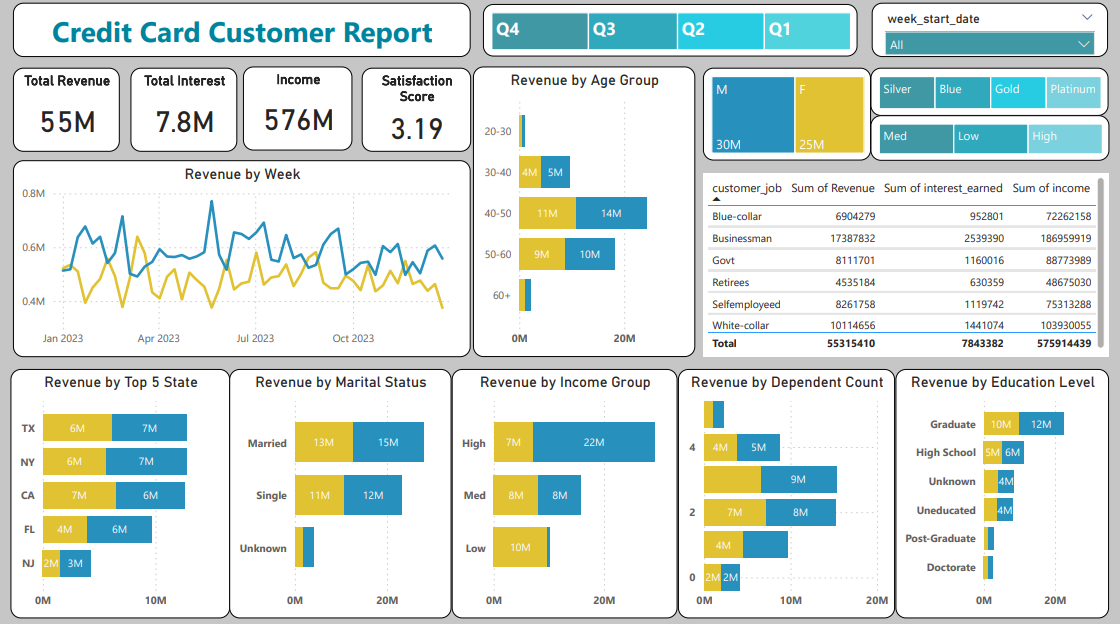

The page's visual inventory and layout, read from the dashboard file:
{"tool":"powerbi","page":{"name":"Page 2","canvas":[1280,720],"ordinal":2},"visuals":[{"type":"textbox","box":[17.8,4.1,522.8,61.7],"z":0},{"type":"barChart","title":"Revenue by Income Group","fields":{"Y":["Sum(public cc_detail.Revenue)"],"Category":["public cust_detail.IncomeGroup"],"Series":["public cust_detail.gender"]},"box":[518.7,422.6,258,285.4],"z":2},{"type":"tableEx","fields":{"Values":["public cust_detail.customer_job","Sum(public cc_detail.Revenue)","Sum(public cc_detail.interest_earned)","Sum(public cust_detail.income)"]},"box":[805.5,199,463.8,209.9],"z":7},{"type":"card","title":"Total Revenue","fields":{"Values":["Sum(public cc_detail.Revenue)"]},"box":[17.8,78.2,122.1,96.1],"z":8},{"type":"card","title":"Income","fields":{"Values":["Sum(public cust_detail.income)"]},"box":[279.9,76.8,124.9,96.1],"z":9},{"type":"card","title":"Total Interest","fields":{"Values":["Sum(public cc_detail.interest_earned)"]},"box":[150.9,78.2,122.1,96.1],"z":10},{"type":"card","title":"Satisfaction Score","fields":{"Values":["Avg(public cust_detail.cust_satisfaction_score)"]},"box":[415.8,78.2,124.9,96.1],"z":11},{"type":"slicer","fields":{"Values":["public cc_detail.week_start_date"]},"box":[999,4.1,270.3,61.7],"z":12},{"type":"treemap","fields":{"Group":["public cc_detail.qtr"],"Values":["Avg(public cc_detail.client_num)"]},"box":[554.4,5.5,428.1,60.4],"z":13},{"type":"treemap","fields":{"Group":["public cc_detail.card_category"],"Values":["Avg(public cc_detail.client_num)"]},"box":[997.6,78.2,271.7,54.9],"z":15},{"type":"treemap","fields":{"Group":["public cust_detail.IncomeGroup"],"Values":["Avg(public cc_detail.client_num)"]},"box":[997.6,133.1,273.1,52.1],"z":16},{"type":"lineChart","title":"Revenue by Week","fields":{"Y":["Sum(public cc_detail.Revenue)"],"Series":["public cust_detail.gender"],"Category":["public cc_detail.week_start_date.Variation.Date Hierarchy.Year","public cc_detail.week_start_date.Variation.Date Hierarchy.Month","public cc_detail.week_start_date.Variation.Date Hierarchy.Day"]},"box":[17.8,183.9,522.8,225],"z":17},{"type":"treemap","fields":{"Group":["public cust_detail.gender"],"Values":["Sum(public cc_detail.Revenue)"]},"box":[805.5,78.2,192.1,105.7],"z":18},{"type":"barChart","title":"Revenue by Age Group","fields":{"Y":["Sum(public cc_detail.Revenue)"],"Category":["public cust_detail.AgeGroup"],"Series":["public cust_detail.gender"]},"box":[543.4,76.8,253.9,332.1],"z":19},{"type":"barChart","title":"Revenue by Dependent Count","fields":{"Y":["Sum(public cc_detail.Revenue)"],"Category":["public cust_detail.dependent_count"],"Series":["public cust_detail.gender"]},"box":[776.7,422.6,248.4,285.4],"z":20},{"type":"barChart","title":"Revenue by Education Level","fields":{"Y":["Sum(public cc_detail.Revenue)"],"Category":["public cust_detail.education_level"],"Series":["public cust_detail.gender"]},"box":[1025,422.6,244.3,285.4],"z":21},{"type":"barChart","title":"Revenue by Top 5 State","fields":{"Y":["Sum(public cc_detail.Revenue)"],"Category":["public cust_detail.state_cd"],"Series":["public cust_detail.gender"]},"box":[13.7,422.6,251.1,285.4],"z":22},{"type":"barChart","title":"Revenue by Marital Status","fields":{"Y":["Sum(public cc_detail.Revenue)"],"Category":["public cust_detail.marital_status"],"Series":["public cust_detail.gender"]},"box":[264.8,422.6,253.9,285.4],"z":23}]}

Visuals, with their boxes in screenshot pixels (x1, y1, x2, y2), scaled from the page's 1280x720 canvas onto the 1120x624 screenshot:
textbox: bbox=[16, 4, 473, 57]
"Revenue by Income Group" barChart: bbox=[454, 366, 680, 614]
tableEx - public cust_detail.customer_job x Sum(public cc_detail.Revenue): bbox=[705, 172, 1111, 354]
"Total Revenue" card: bbox=[16, 68, 122, 151]
"Income" card: bbox=[245, 67, 354, 150]
"Total Interest" card: bbox=[132, 68, 239, 151]
"Satisfaction Score" card: bbox=[364, 68, 473, 151]
slicer - public cc_detail.week_start_date: bbox=[874, 4, 1111, 57]
treemap - public cc_detail.qtr x Avg(public cc_detail.client_num): bbox=[485, 5, 860, 57]
treemap - public cc_detail.card_category x Avg(public cc_detail.client_num): bbox=[873, 68, 1111, 115]
treemap - public cust_detail.IncomeGroup x Avg(public cc_detail.client_num): bbox=[873, 115, 1112, 161]
"Revenue by Week" lineChart: bbox=[16, 159, 473, 354]
treemap - public cust_detail.gender x Sum(public cc_detail.Revenue): bbox=[705, 68, 873, 159]
"Revenue by Age Group" barChart: bbox=[475, 67, 698, 354]
"Revenue by Dependent Count" barChart: bbox=[680, 366, 897, 614]
"Revenue by Education Level" barChart: bbox=[897, 366, 1111, 614]
"Revenue by Top 5 State" barChart: bbox=[12, 366, 232, 614]
"Revenue by Marital Status" barChart: bbox=[232, 366, 454, 614]
